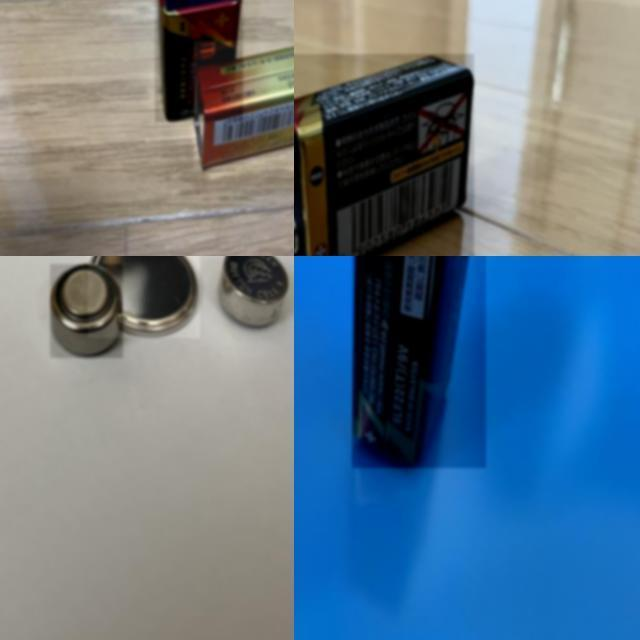9V: (294, 54, 474, 256), (352, 256, 486, 468), (194, 41, 294, 169), (155, 0, 243, 121)
